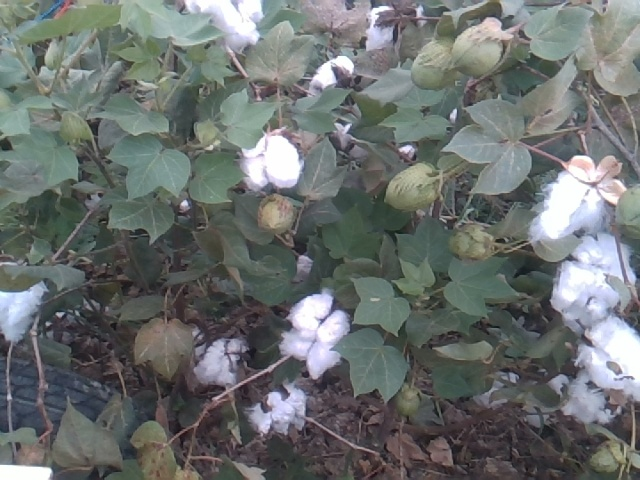cotton: (549, 233, 640, 331), (273, 287, 349, 380), (526, 164, 611, 246), (581, 313, 640, 401), (175, 1, 272, 53), (178, 320, 247, 388), (235, 130, 304, 194), (2, 260, 52, 348), (240, 380, 309, 439), (361, 3, 431, 54), (308, 49, 350, 96)
